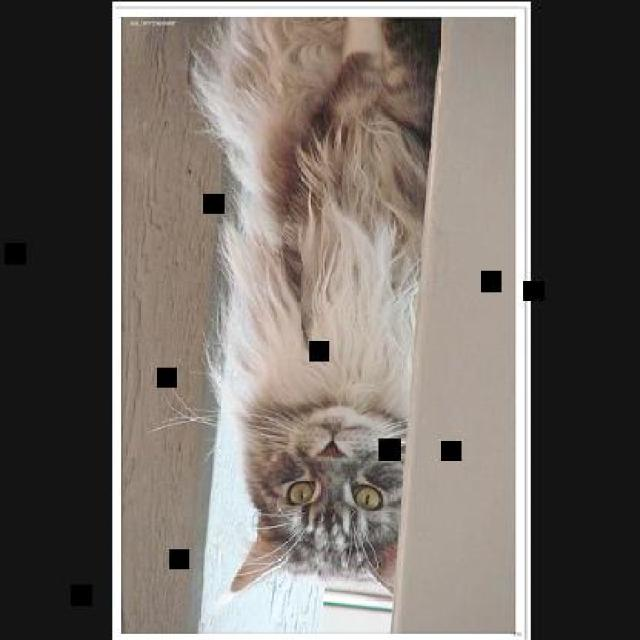unauthorized: (149, 15, 440, 600)
